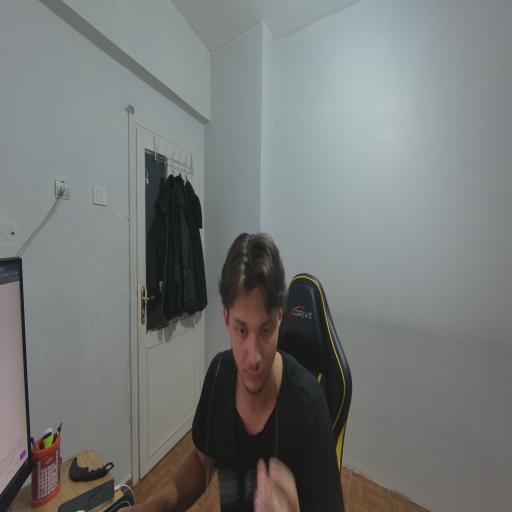cuma-face-v2: (214, 229, 292, 412)
